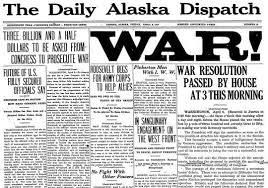Printing industry: (1, 4, 268, 188)
